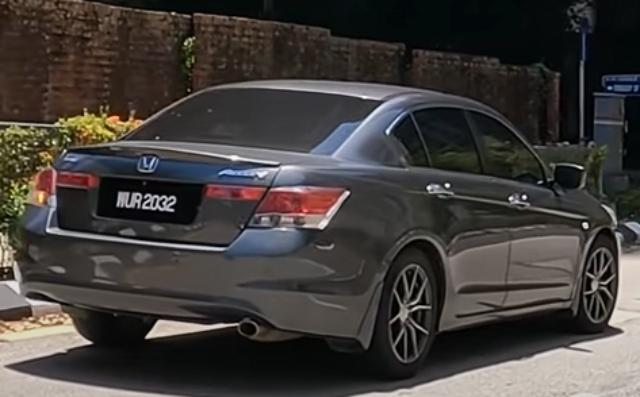License_Plate: (96, 176, 201, 226)
car: (11, 79, 623, 382)
